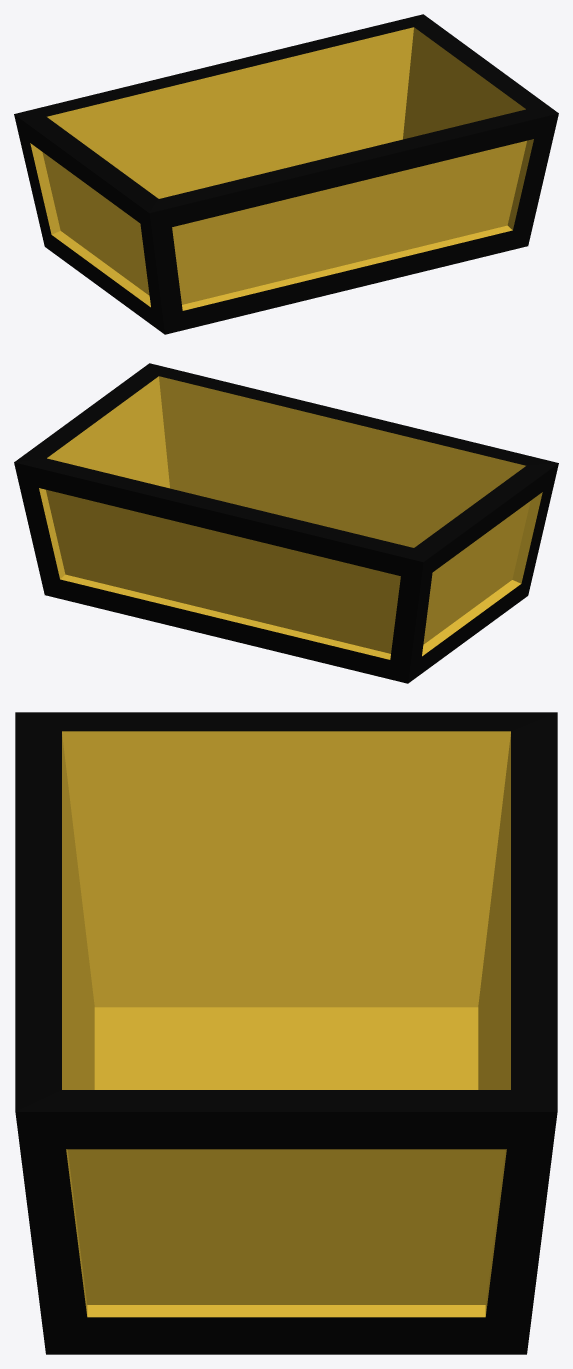
File: chest-bottom-fixe.fbx
3 views of the same model, one above another, from view 1: azimuth 30°, elevation 25°; view 2: azimuth 150°, elevation 25°; view 3: azimuth 270°, elevation 25° (orthographic). The views are drawn at different scales.
Visible parts, largest first — view 1: Plane.001; view 2: Plane.001; view 3: Plane.001.
Boxes of the visible parts, x1,y1,x2,y2 form: Plane.001: (14,14,558,334); Plane.001: (14,363,558,683); Plane.001: (15,712,557,1354).
Bounding box in the file's own units: 200 × 62.24 × 115.
